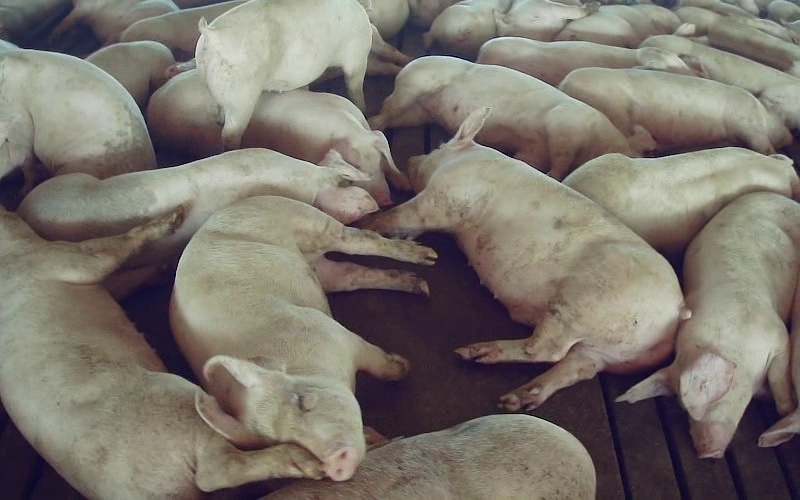pig: (365, 108, 683, 409), (171, 196, 435, 479), (619, 192, 799, 457), (18, 148, 376, 247), (369, 56, 654, 179), (264, 414, 595, 499), (196, 0, 372, 149), (564, 147, 799, 253), (559, 68, 791, 154), (242, 89, 408, 205), (641, 35, 799, 132), (477, 37, 708, 85), (676, 7, 799, 76), (554, 4, 680, 47), (494, 0, 599, 40)
